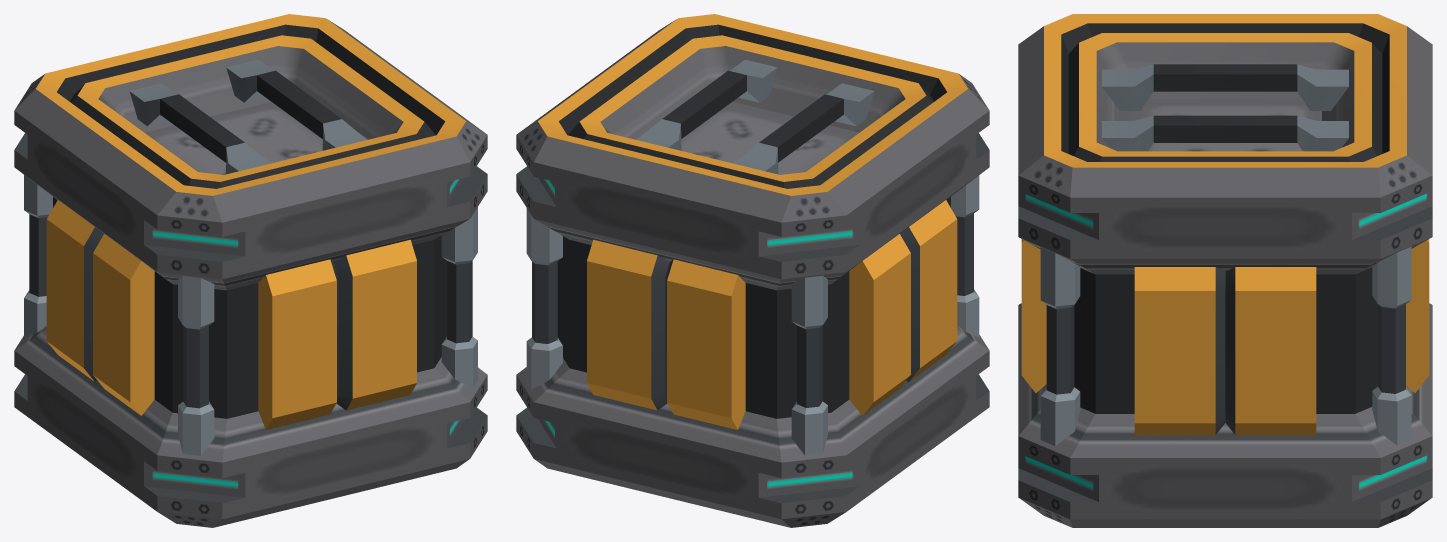
Rendered from SM_Prop_SciFiCrate_01.fbx.
3 renders of one model, left to right at view 1: azimuth 30°, elevation 25°; view 2: azimuth 150°, elevation 25°; view 3: azimuth 270°, elevation 25°, orthographic. The views are drawn at different scales.
Parts seen in each view (by area): view 1: SM_Prop_SciFiCrate_01; view 2: SM_Prop_SciFiCrate_01; view 3: SM_Prop_SciFiCrate_01.
Boxes of the visible parts, x1,y1,x2,y2 form: SM_Prop_SciFiCrate_01: (14, 14, 487, 527); SM_Prop_SciFiCrate_01: (516, 14, 989, 527); SM_Prop_SciFiCrate_01: (1018, 14, 1432, 527).
Size of the model in its own units: 80 by 76.85 by 80.
Materials: 1 (1 with a texture image).
